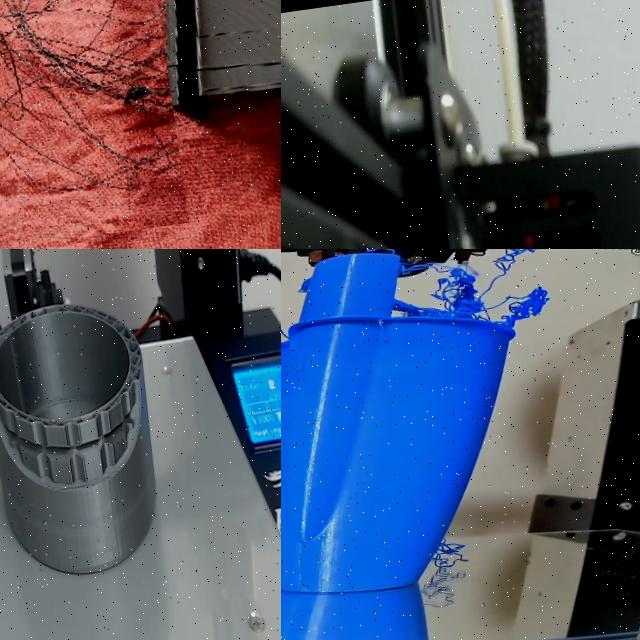spaghetti: (0, 0, 189, 249), (344, 249, 570, 349), (380, 260, 508, 334), (428, 526, 484, 578)
